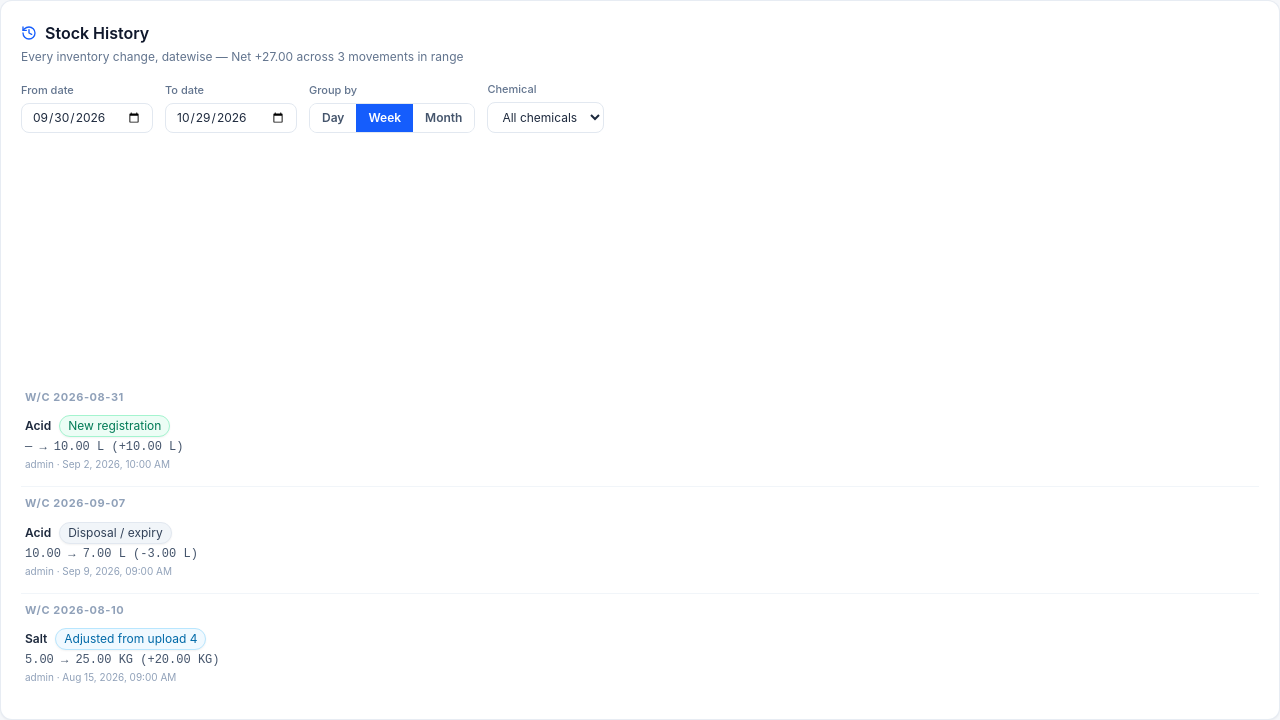
StockHistory › filters by chemical through the server
Expected: the text "w/c 2026-09-07" is shown, [25,496,126,510]
Select "Salt" in the dropdown named "Chemical" at (546, 117), box [487,102,604,132]
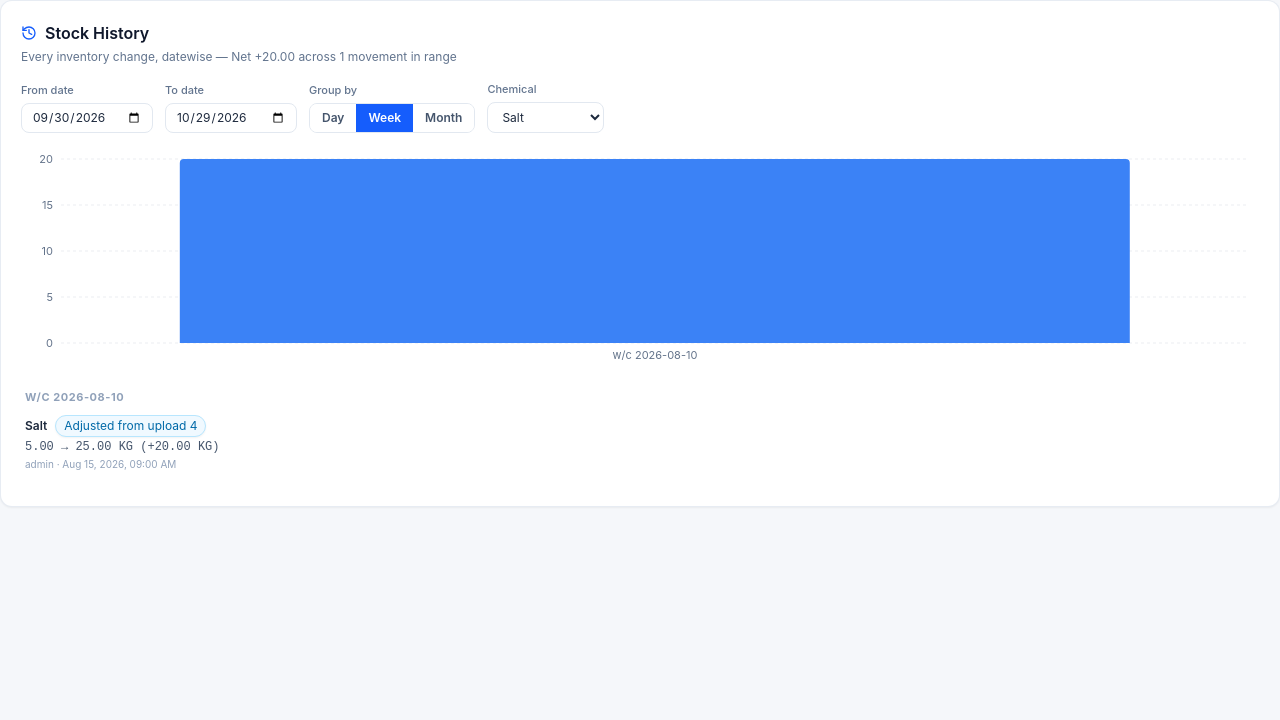
Expected: the text "Adjusted from upload 4" is shown, [55,415,206,437]
Now the text "Disposal / expiry" is gone
